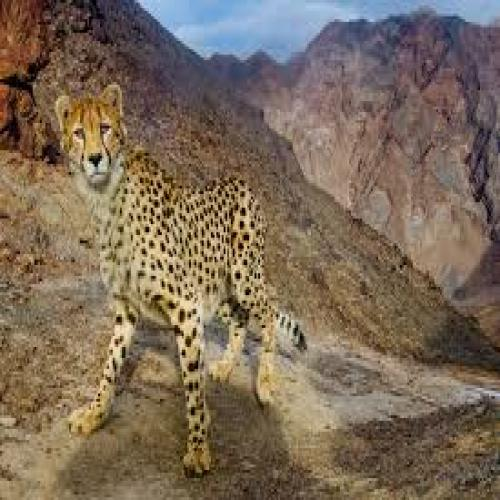cheetah-endangered: (54, 82, 309, 480)
